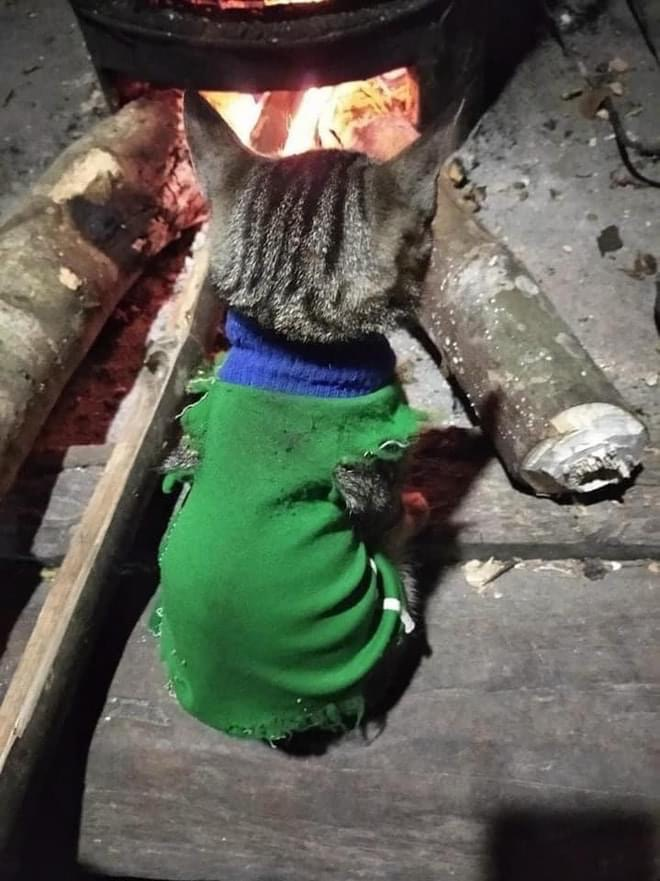cat: (157, 88, 445, 682)
